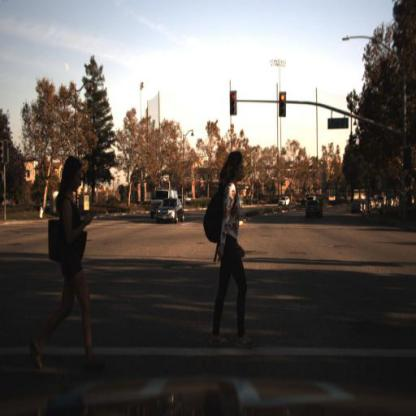car: (148, 190, 181, 220), (157, 198, 188, 227), (304, 197, 324, 223), (277, 195, 290, 208)
pedestrian: (27, 156, 111, 377), (201, 149, 255, 356)
trafficLight-Red: (277, 88, 288, 122), (402, 146, 415, 174)
trafficLight-RedLeft: (229, 88, 239, 119)
